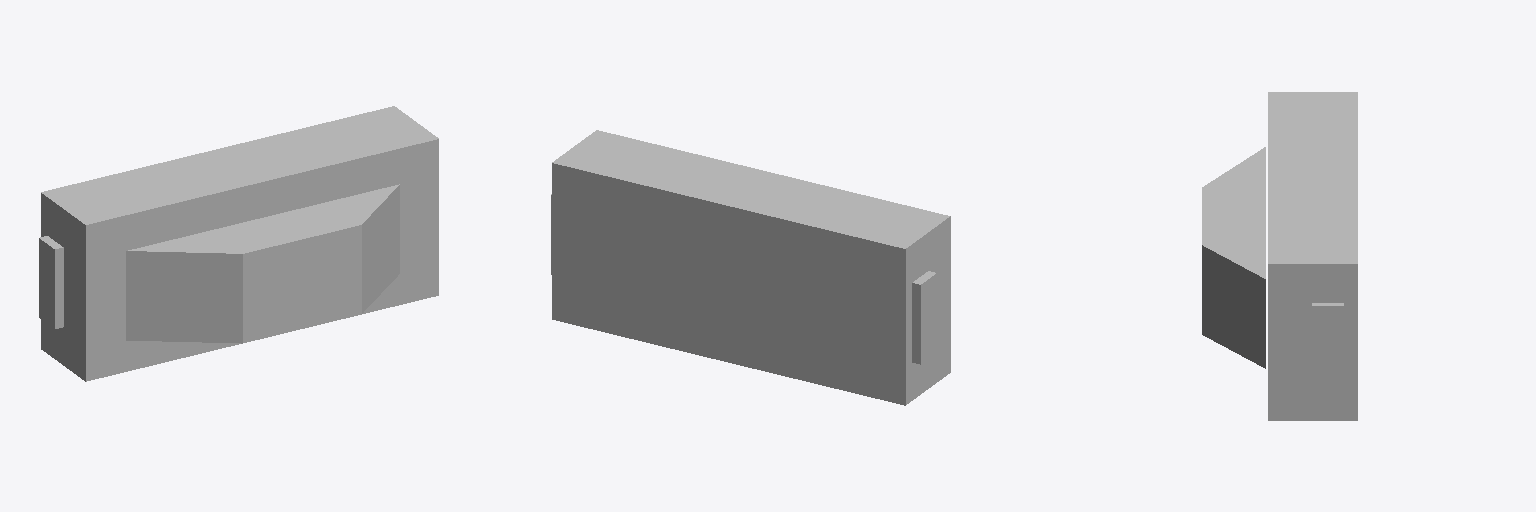
Rendered from movingObject2.obj.
3 renders of one model, left to right at view 1: azimuth 30°, elevation 25°; view 2: azimuth 150°, elevation 25°; view 3: azimuth 270°, elevation 25°, orthographic.
Visible parts, largest first — view 1: Box001, Box003, Box002; view 2: Box001, Box002; view 3: Box001, Box003, Box004.
Part boxes in pixels (x1,y1,x2,y2): Box001: (41, 106, 438, 381); Box003: (126, 184, 399, 343); Box002: (39, 236, 63, 328); Box001: (552, 130, 950, 405); Box002: (912, 271, 936, 364); Box001: (1268, 92, 1357, 420); Box003: (1202, 147, 1265, 368); Box004: (1312, 303, 1343, 385).
Bounding box in the file's own units: 1.5 × 0.608 × 0.5476.